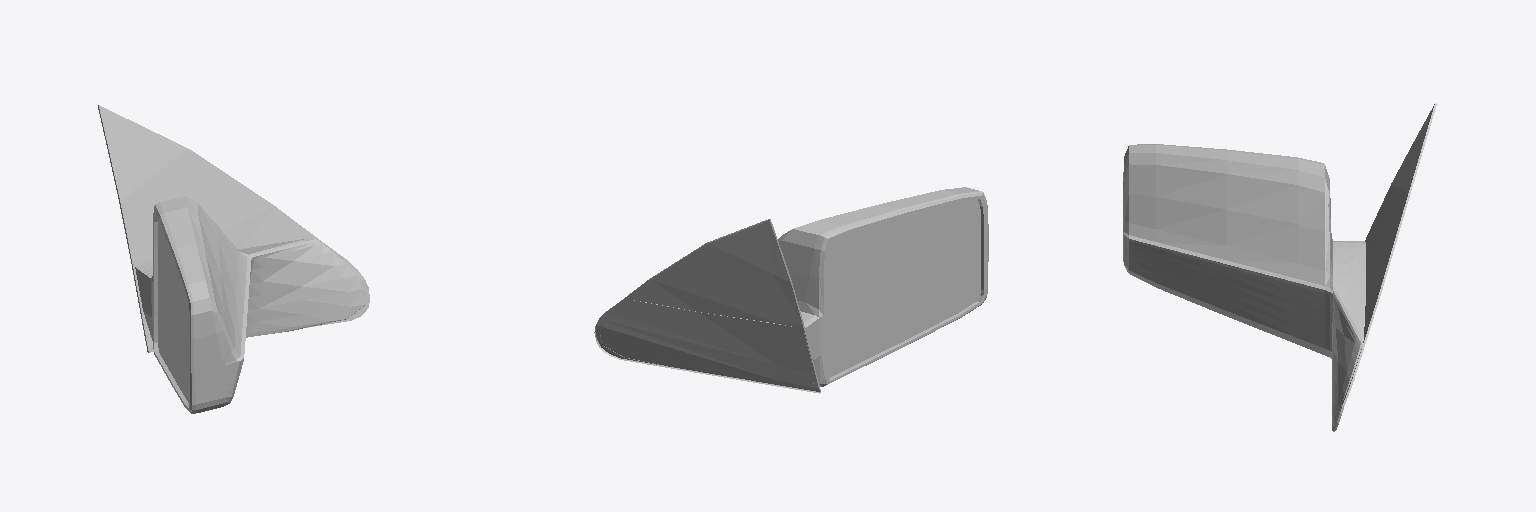
The picture shows the model from 3 angles: view 1: azimuth 30°, elevation 25°; view 2: azimuth 150°, elevation 25°; view 3: azimuth 270°, elevation 25°; orthographic projection.
Parts seen in each view (by area): view 1: P159_281I_R_1_D_P159_281I_R, P159_281I_R_P159_281I_R_2_DTaSI; view 2: P159_281I_R_1_D_P159_281I_R, P159_281I_R_P159_281I_R_2_DTaSI; view 3: P159_281I_R_1_D_P159_281I_R.
Part boxes in pixels (x1,y1,x2,y2): P159_281I_R_1_D_P159_281I_R: (98, 105, 369, 413); P159_281I_R_P159_281I_R_2_DTaSI: (158, 221, 188, 402); P159_281I_R_1_D_P159_281I_R: (594, 187, 988, 393); P159_281I_R_P159_281I_R_2_DTaSI: (827, 199, 980, 377); P159_281I_R_1_D_P159_281I_R: (1123, 103, 1436, 431).
Bounding box in the file's own units: 35.92 × 27.39 × 34.25.